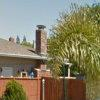Chimney: (31, 16, 50, 60)
